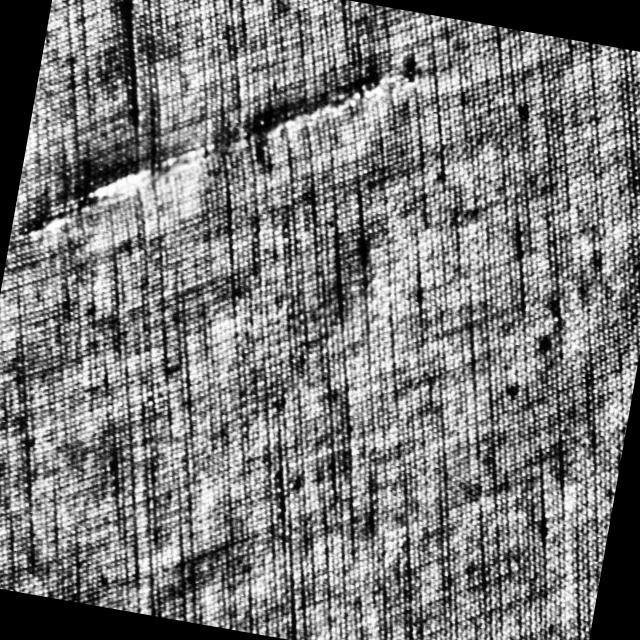gray stitch: (12, 9, 404, 297)
